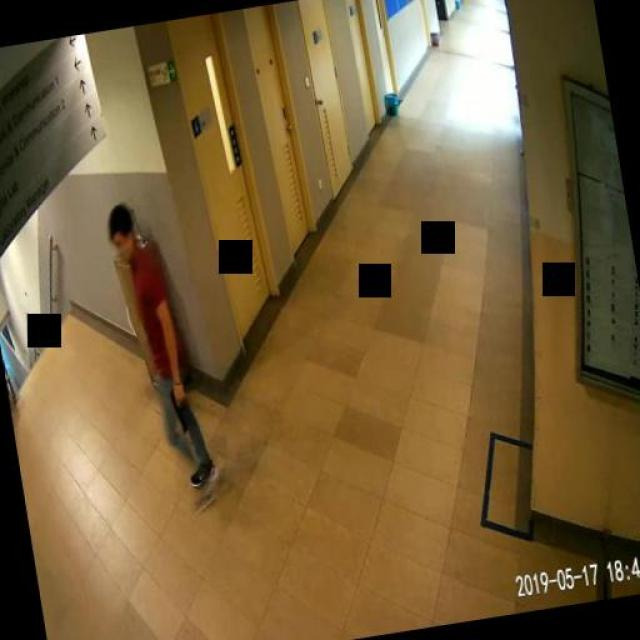gun: (168, 382, 188, 432)
